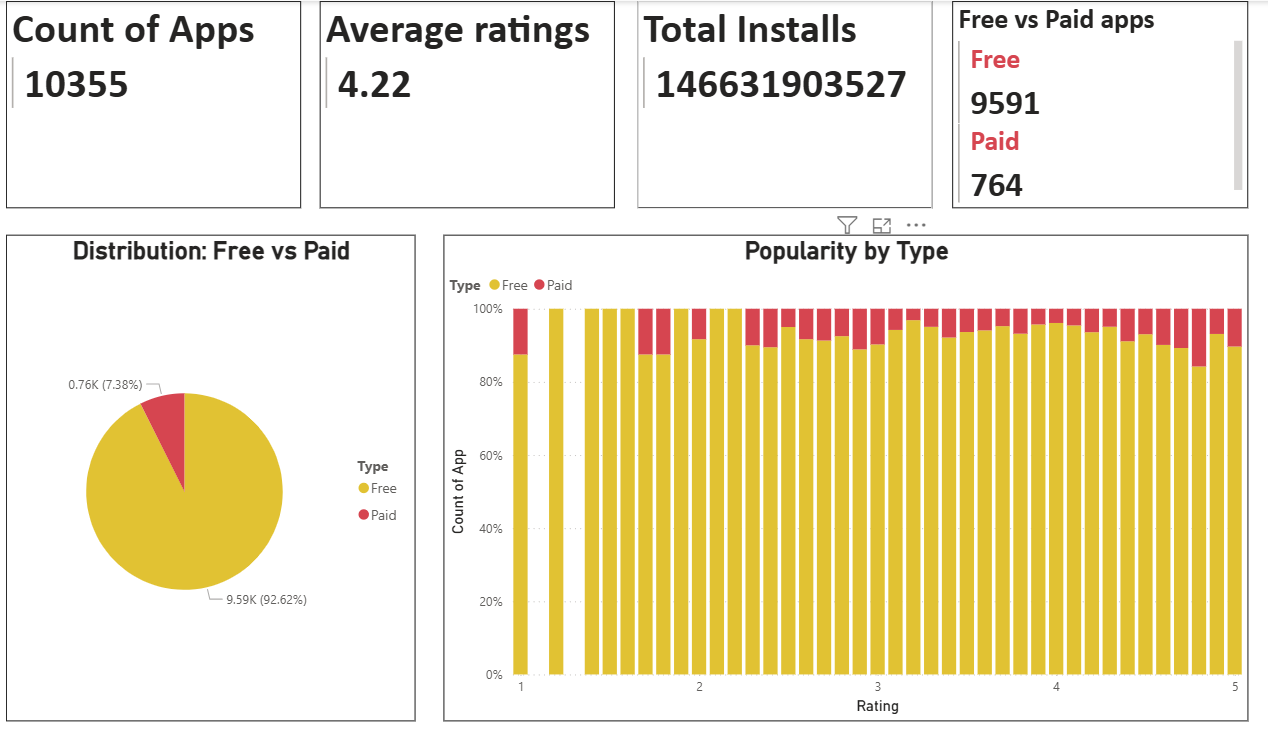

The dashboard page shown, as its layout file describes it:
{"tool":"powerbi","page":{"name":"App Summary","canvas":[1280,720],"ordinal":0},"visuals":[{"type":"pieChart","title":"Distribution: Free vs Paid","fields":{"Y":["CountNonNull(google cleaned for Power BI.App)"],"Category":["google cleaned for Power BI.Type"]},"box":[19.2,225,395.2,469.3],"z":0},{"type":"multiRowCard","title":"Count of Apps","fields":{"Values":["google cleaned for Power BI.App"]},"box":[19,0,285,200],"z":1},{"type":"multiRowCard","title":"Average ratings","fields":{"Values":["Avg(google cleaned for Power BI.Rating)"]},"box":[322.5,0,285,200.3],"z":2},{"type":"multiRowCard","title":"Total Installs","fields":{"Values":["Sum(google cleaned for Power BI.Installs)"]},"box":[628.5,0,285,200.3],"z":3},{"type":"multiRowCard","title":"Free vs Paid apps","fields":{"Values":["google cleaned for Power BI.App","google cleaned for Power BI.Type"]},"box":[933.1,0,285.4,200.3],"z":4},{"type":"hundredPercentStackedColumnChart","title":"Popularity by Type","fields":{"Y":["CountNonNull(google cleaned for Power BI.App)"],"Category":["google cleaned for Power BI.Rating"],"Series":["google cleaned for Power BI.Type"]},"box":[441.6,225.6,776.9,469.3],"z":5}]}

Visuals, with their boxes in screenshot pixels (x1, y1, x2, y2), scaled from the page's 1280x720 canvas onto the 1268x735 screenshot:
"Distribution: Free vs Paid" pieChart: [19,230,411,709]
"Count of Apps" multiRowCard: [19,0,301,204]
"Average ratings" multiRowCard: [319,0,602,204]
"Total Installs" multiRowCard: [623,0,905,204]
"Free vs Paid apps" multiRowCard: [924,0,1207,204]
"Popularity by Type" hundredPercentStackedColumnChart: [437,230,1207,709]
